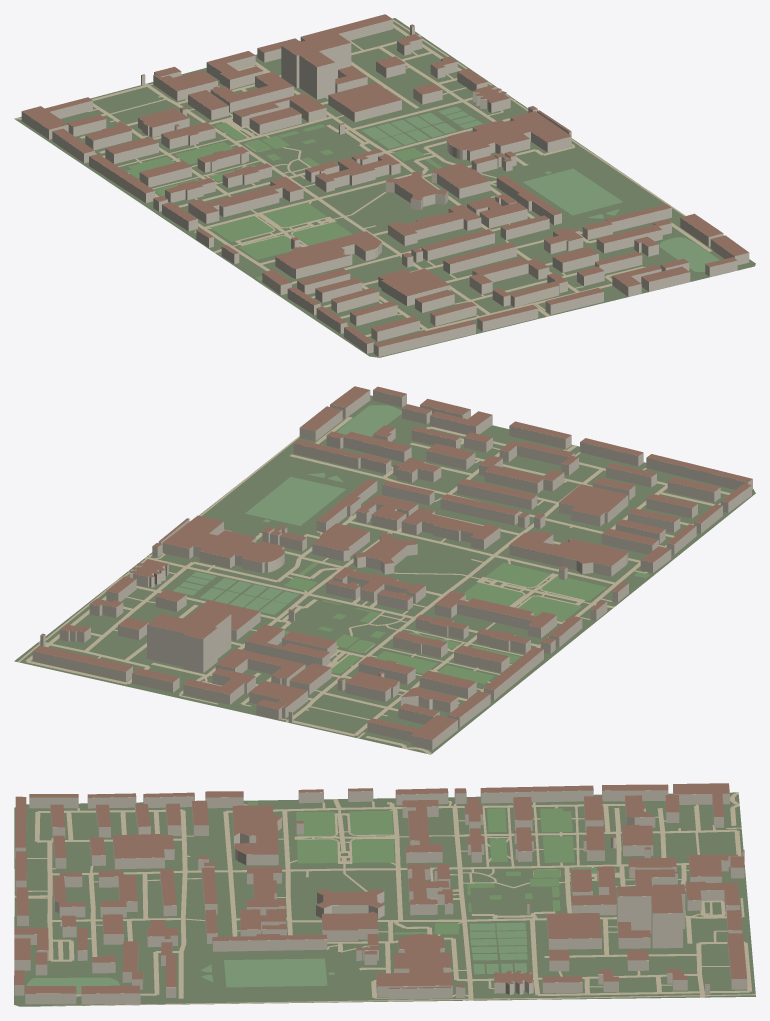
3 renders of one model, top to bottom at view 1: azimuth 30°, elevation 25°; view 2: azimuth 150°, elevation 25°; view 3: azimuth 270°, elevation 25°, orthographic. The views are drawn at different scales.
Parts seen in each view (by area): view 1: buildings, campus-ground, roofs, environment (×3); view 2: buildings, campus-ground, roofs, environment (×3); view 3: campus-ground, roofs, environment (×3), buildings.
Boxes of the visible parts, x1,y1,x2,y2 form: buildings: [21, 19, 749, 356]; campus-ground: [14, 18, 755, 357]; roofs: [22, 14, 748, 347]; environment (×3): [15, 19, 719, 336]; buildings: [32, 390, 752, 750]; campus-ground: [14, 395, 755, 754]; roofs: [33, 386, 752, 739]; environment (×3): [17, 405, 730, 754]; campus-ground: [14, 792, 755, 1006]; roofs: [14, 783, 746, 993]; environment (×3): [14, 792, 755, 1006]; buildings: [14, 784, 747, 1004].
Size of the model in its own units: 520 by 39.85 by 761.
